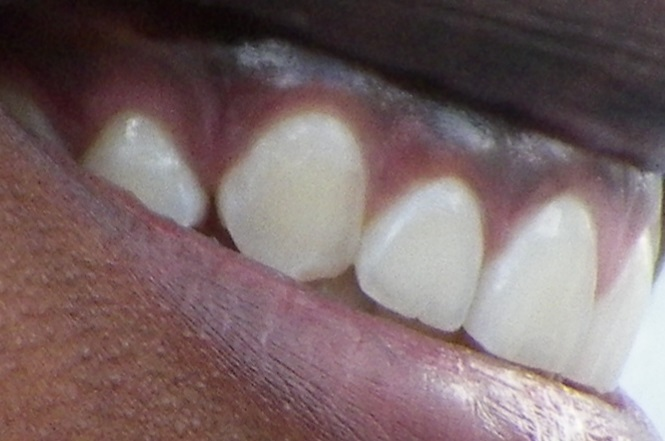boca: (44, 80, 655, 407)
